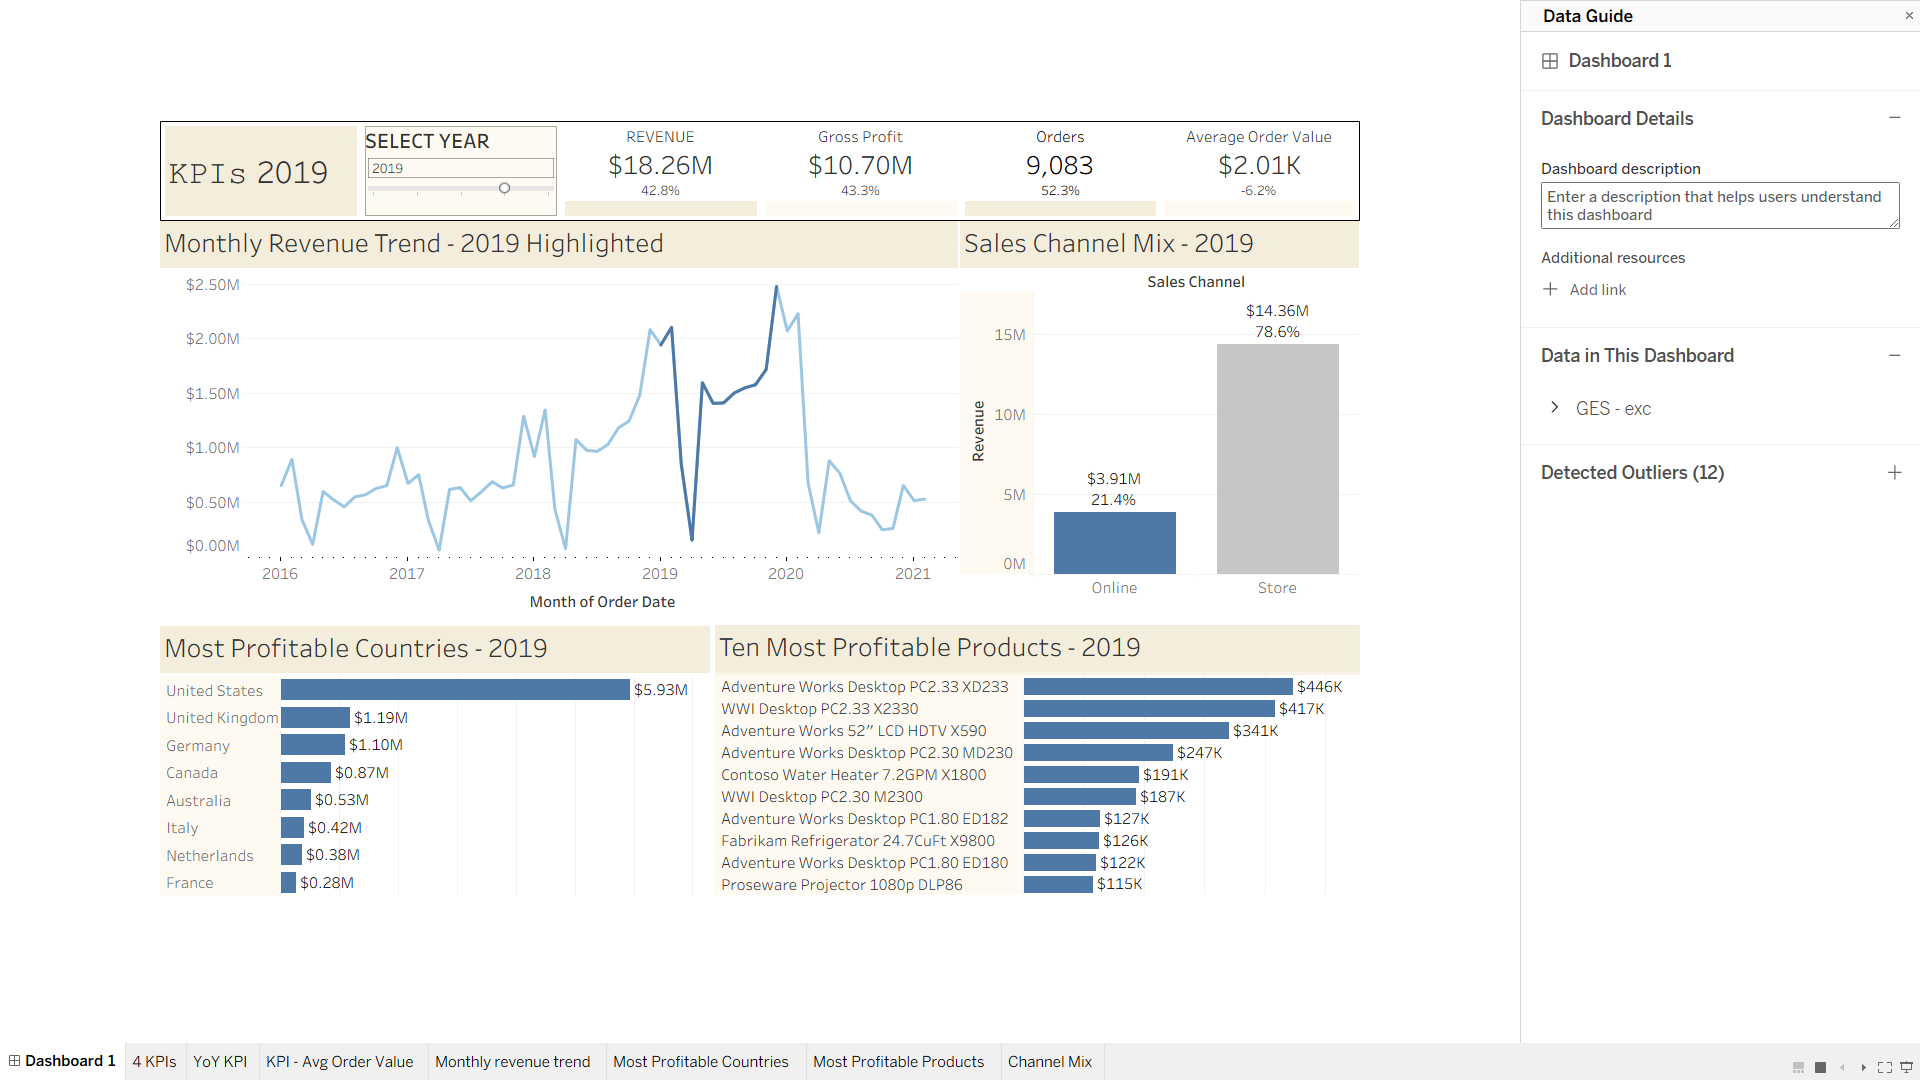

The page's visual inventory and layout, read from the dashboard file:
{"tool":"tableau","page":{"name":"Dashboard 1","canvas":[1200,800],"ordinal":0},"visuals":[{"type":"title","box":[1,1,200,98]},{"type":"parameter","param":"[Parameters].[Parameter 1]","box":[201,1,200,98]},{"type":"worksheet","title":"KPI - Revenue","mark":"Text","box":[401,1,200,98]},{"type":"worksheet","title":"KPI - Gross Profit","mark":"Text","box":[601,1,200,98]},{"type":"worksheet","title":"KPI - Orders","mark":"Text","box":[801,1,199,98]},{"type":"worksheet","title":"KPI - Avg Order Value","mark":"Text","box":[1000,1,199,98]},{"type":"worksheet","title":"Monthly revenue trend","mark":"Line","rows":["REVENUE_USD","Calculation_0263096525557761"],"cols":["ORDER_DATE"],"box":[0,100,798,398]},{"type":"worksheet","title":"Channel Mix","mark":"Bar","rows":["Calculation_0263096525557761"],"cols":["Calculation_0263097189109774"],"box":[800,100,399,378]},{"type":"worksheet","title":"Most Profitable Products","mark":"Bar","rows":["Calculation_0263096900120589"],"cols":["Calculation_0263096527822852"],"box":[555,504,645,270]},{"type":"worksheet","title":"Most Profitable Countries","mark":"Bar","rows":["CUSTOMER_COUNTRY"],"cols":["Calculation_0263096527822852"],"box":[0,505,550,270]}]}

Visuals, with their boxes in screenshot pixels (x1, y1, x2, y2):
title: x1=0 y1=0 x2=192 y2=122
parameter: x1=192 y1=0 x2=468 y2=122
"KPI - Revenue" worksheet (Text marks): x1=468 y1=0 x2=745 y2=122
"KPI - Gross Profit" worksheet (Text marks): x1=745 y1=0 x2=1021 y2=122
"KPI - Orders" worksheet (Text marks): x1=1021 y1=0 x2=1295 y2=122
"KPI - Avg Order Value" worksheet (Text marks): x1=1295 y1=0 x2=1570 y2=122
"Monthly revenue trend" worksheet (Line marks): x1=0 y1=123 x2=1016 y2=672
"Channel Mix" worksheet (Bar marks): x1=1019 y1=123 x2=1570 y2=645
"Most Profitable Products" worksheet (Bar marks): x1=681 y1=681 x2=1571 y2=1053
"Most Profitable Countries" worksheet (Bar marks): x1=0 y1=682 x2=674 y2=1055
